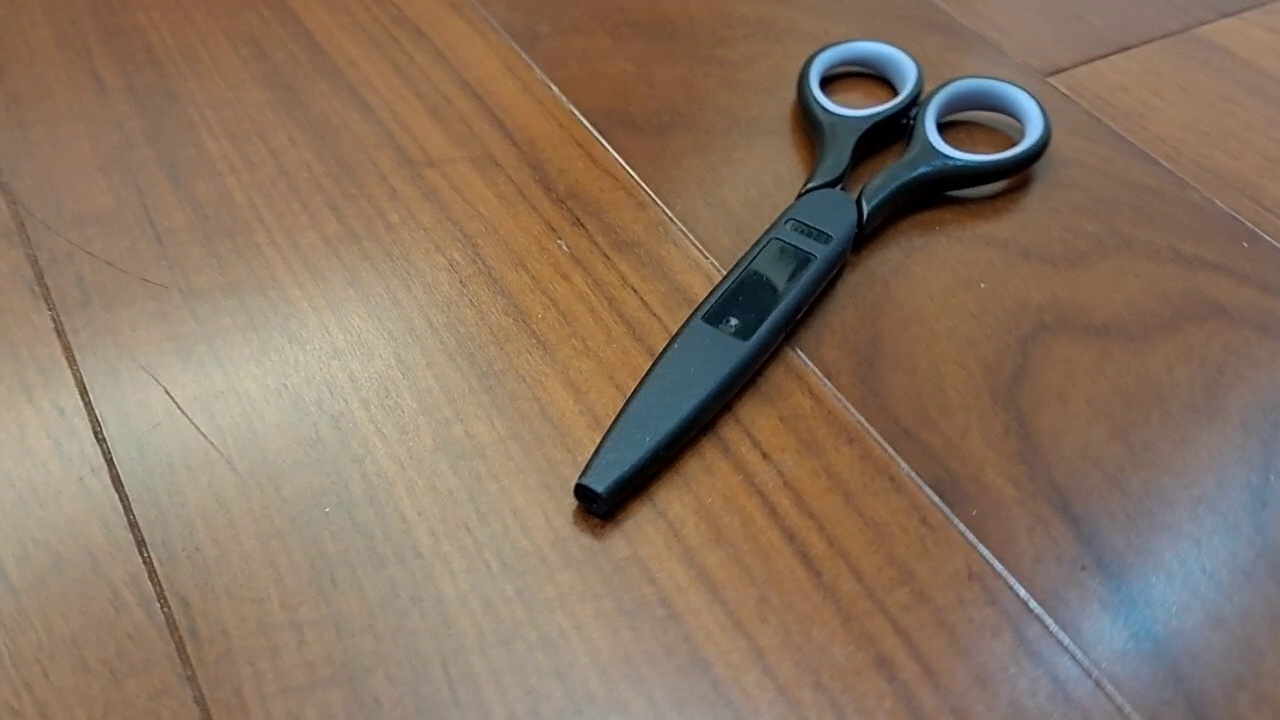scissors: (571, 36, 1053, 525)
